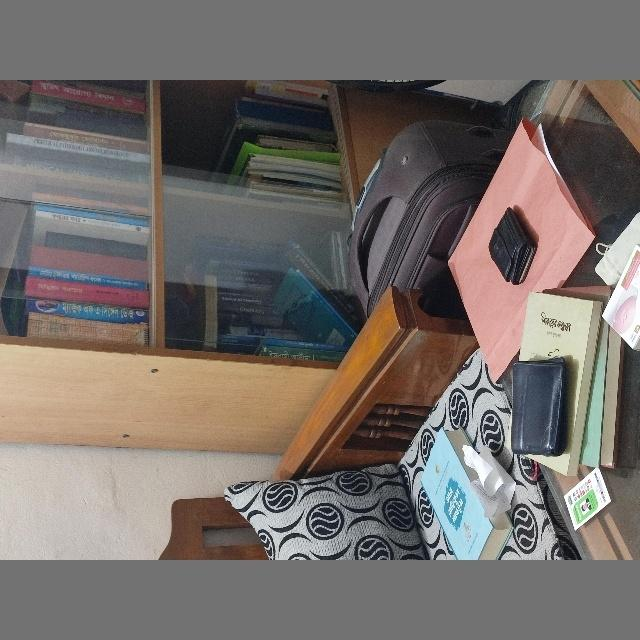Wallet: (510, 358, 566, 456), (488, 207, 538, 286)
